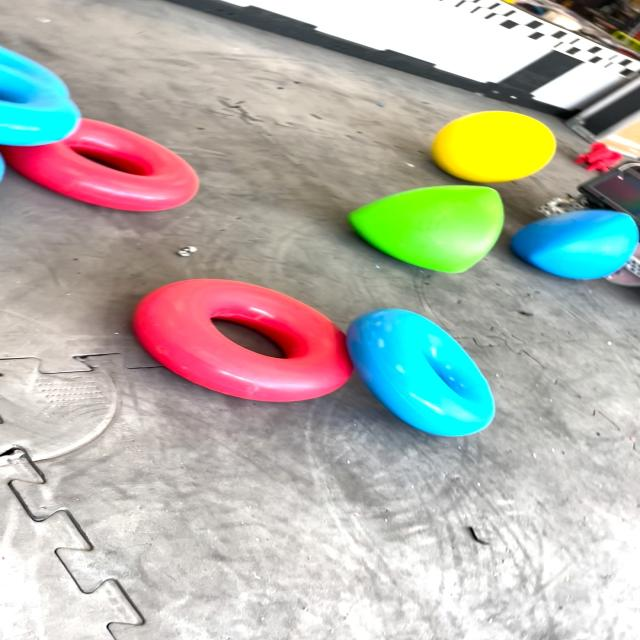Blue-Ring: (347, 309, 496, 436), (2, 48, 83, 146)
Red-Ring: (133, 279, 353, 401), (0, 119, 200, 211), (162, 344, 164, 346)
